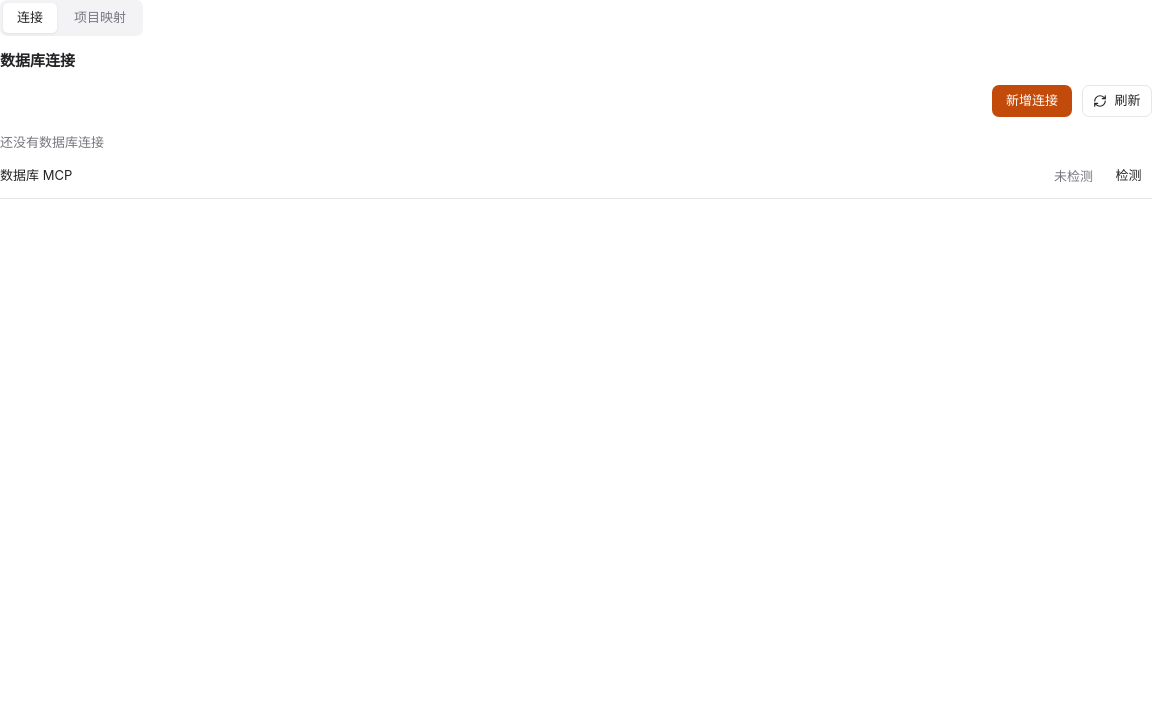
Test: database error context › renders a failed form submission once, inside its dialog
Click the button "新增连接" at (1032, 101), box left=992, top=85, right=1072, bottom=117
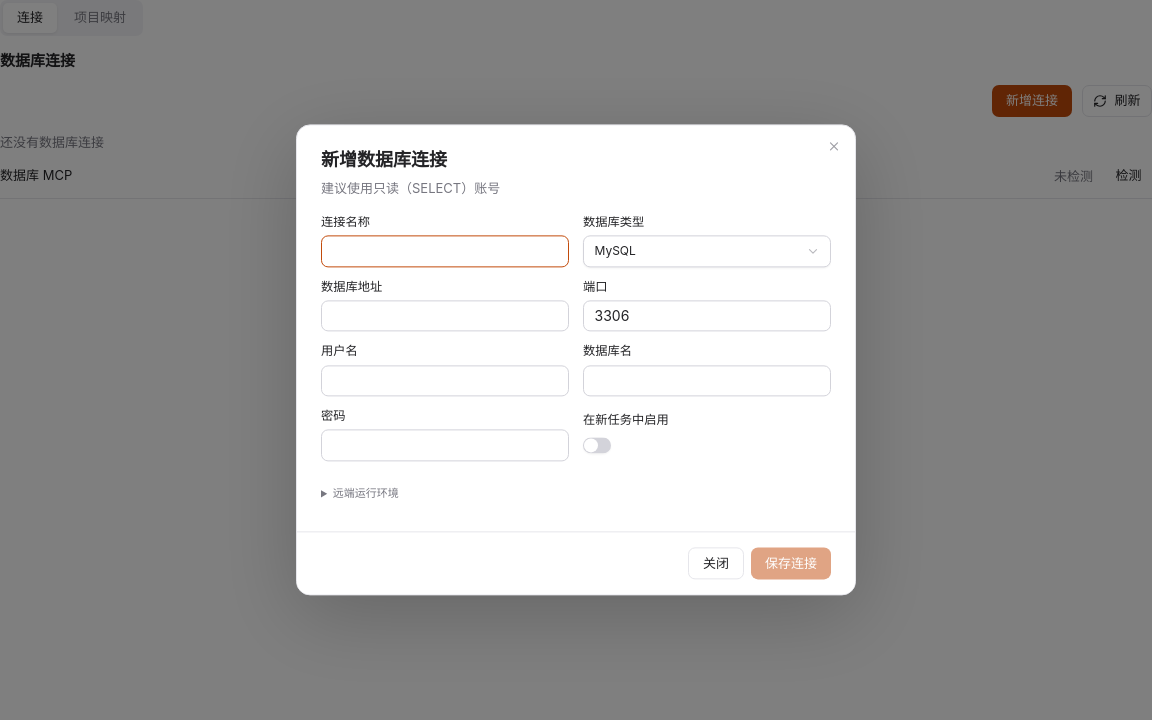
Type "Fixture" into the field labelled "连接名称" at (445, 251), box left=321, top=235, right=569, bottom=267
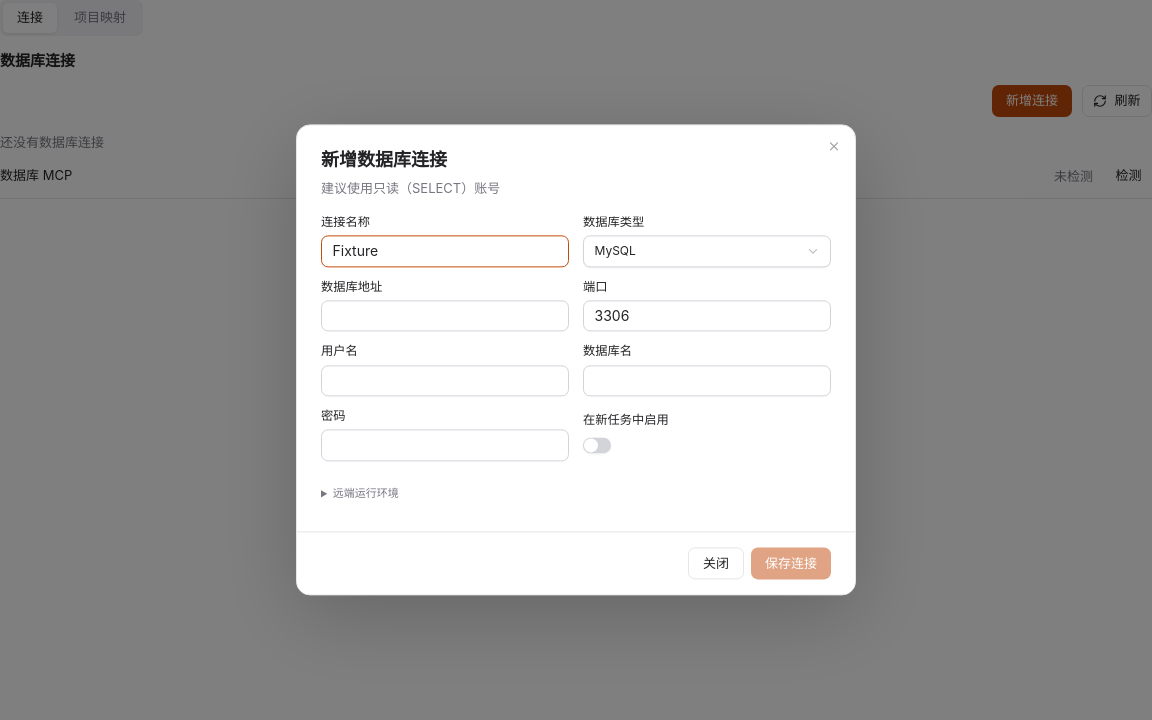
Type "127.0.0.1" into the field labelled "数据库地址" at (445, 316), box left=321, top=300, right=569, bottom=332
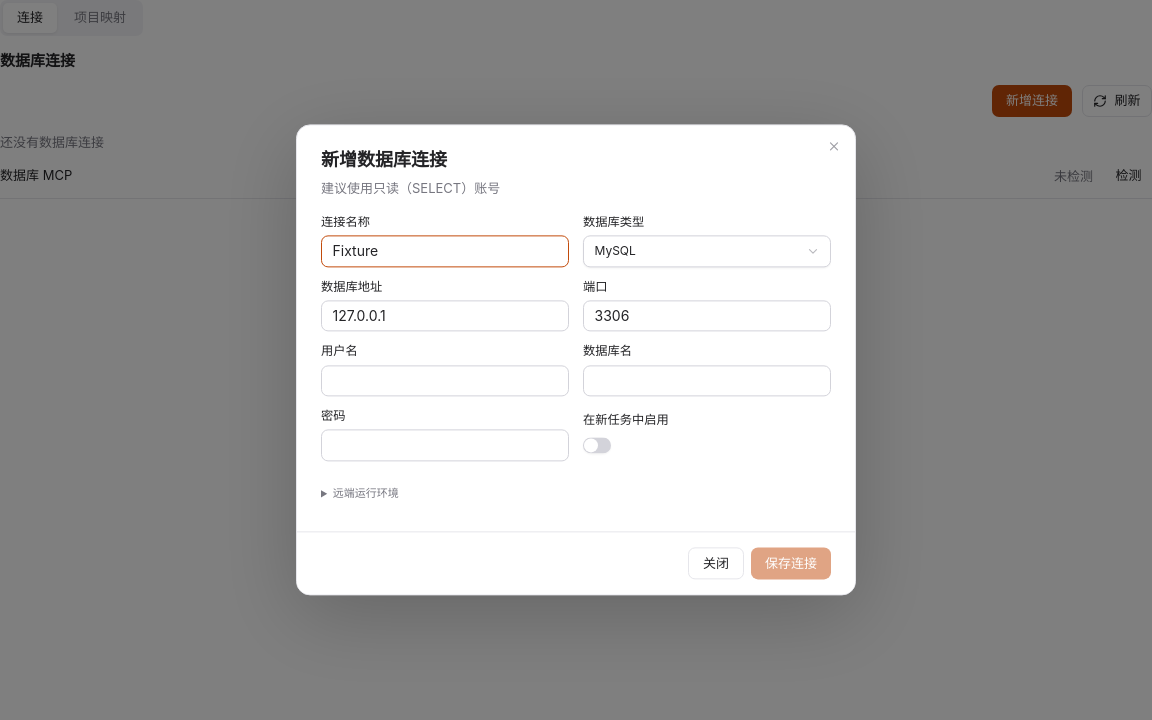
Type "fixture" into the field labelled "用户名" at (445, 381), box left=321, top=365, right=569, bottom=396
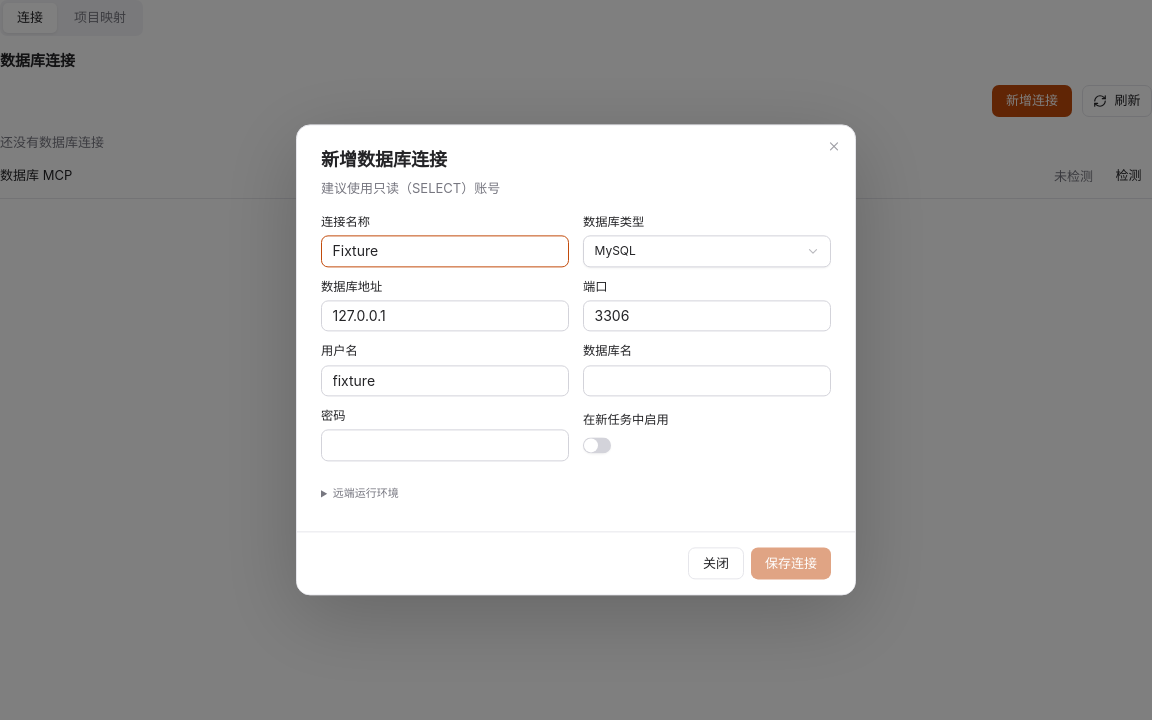
Type "test" into the field labelled "数据库名" at (707, 381), box left=583, top=365, right=831, bottom=396
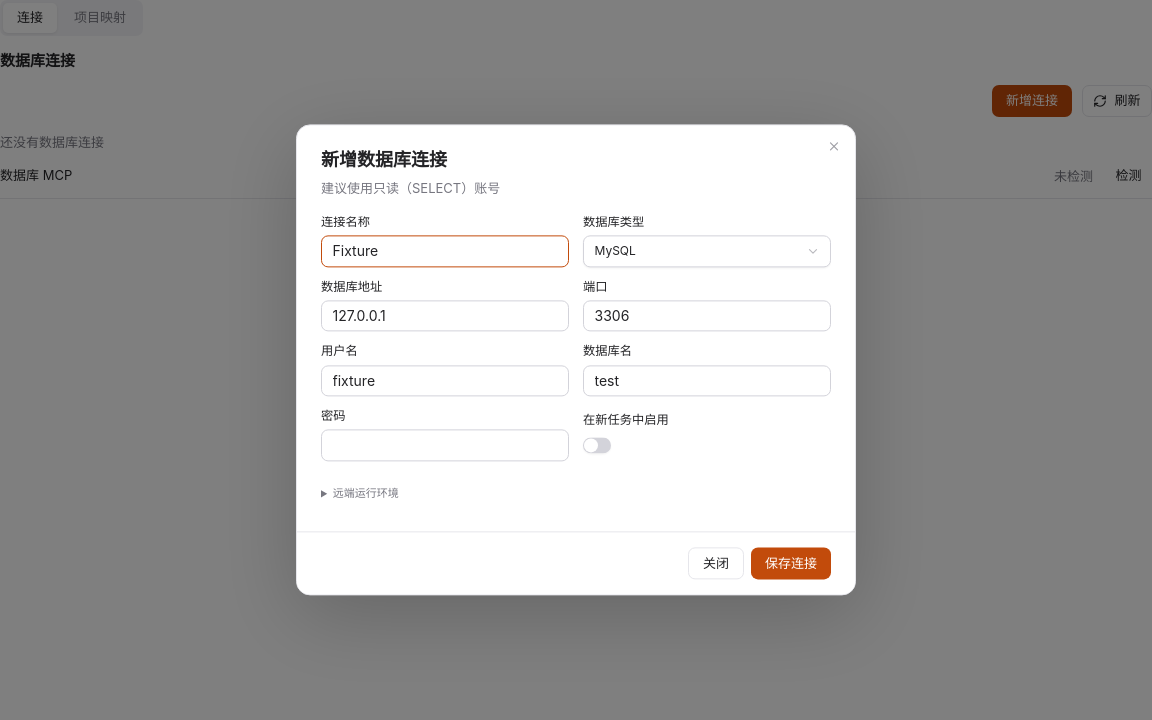
Click the button "保存连接" at (791, 564), box left=751, top=548, right=831, bottom=580
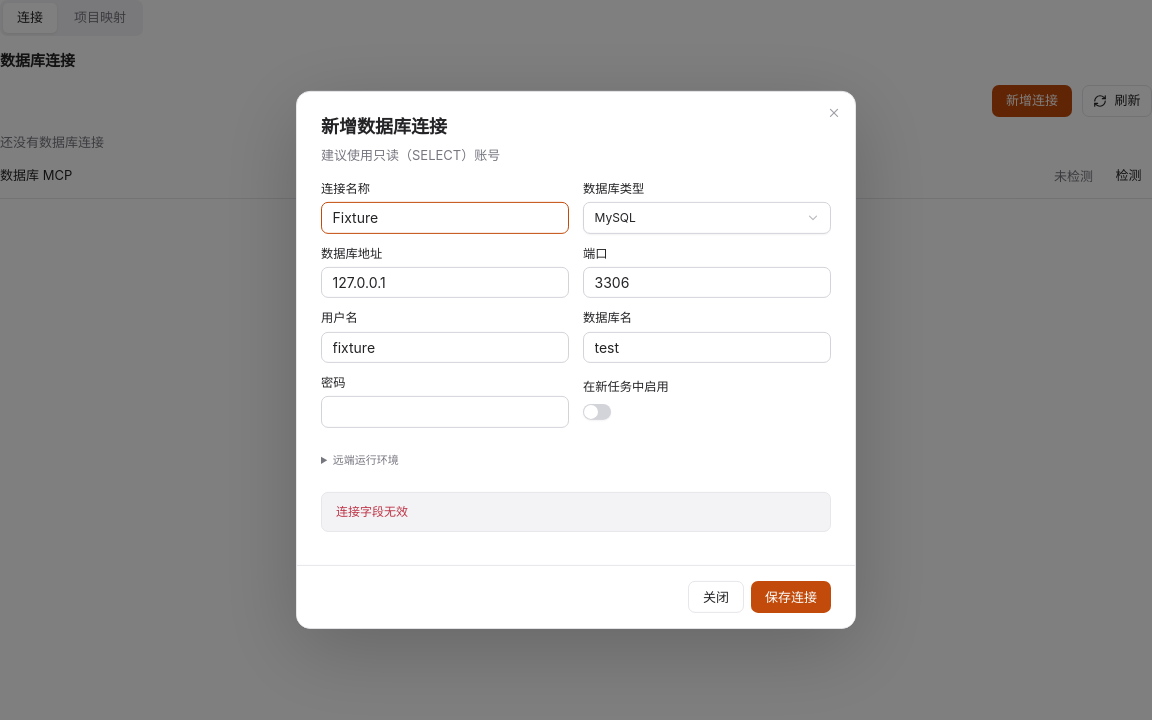
Check: the text "连接字段无效" is shown once, box left=321, top=492, right=831, bottom=532
